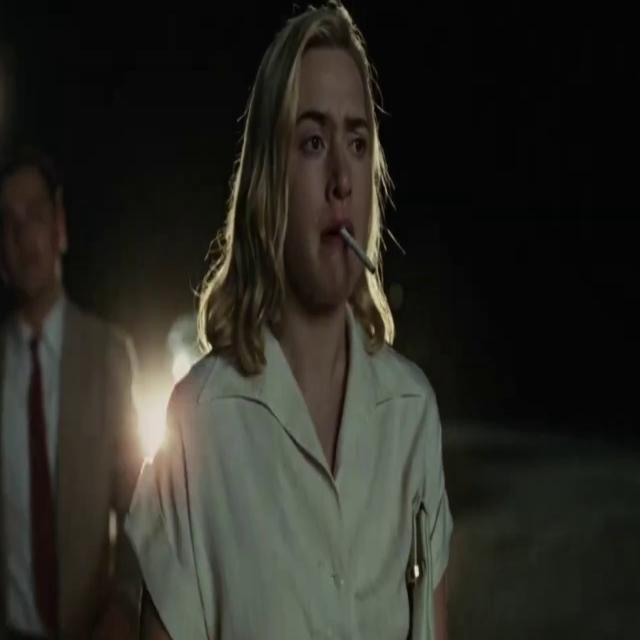Smooking: (337, 216, 386, 292)
